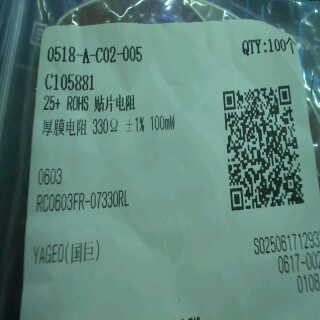330R: (90, 114, 120, 137)
